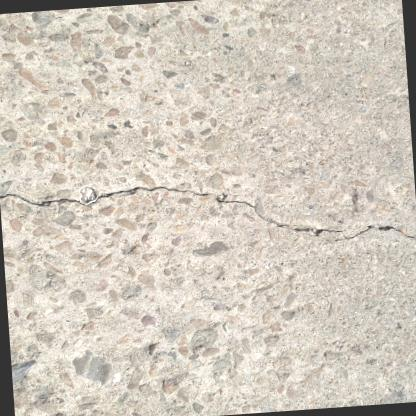crack: (0, 186, 344, 234), (348, 224, 416, 243)
